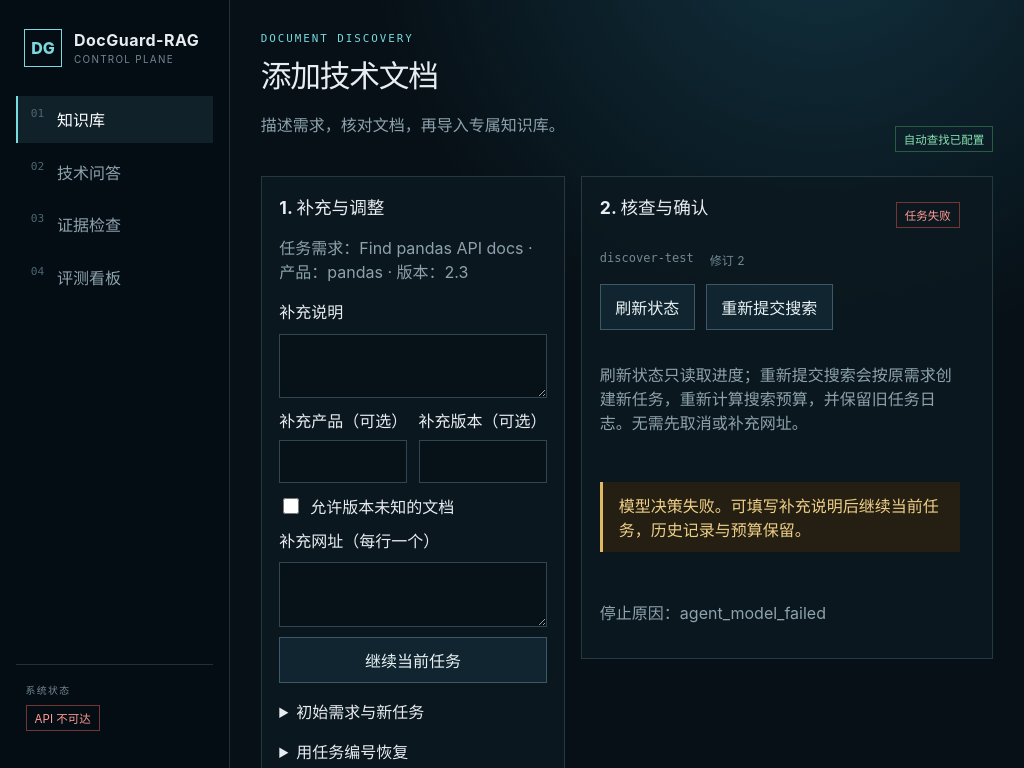
it: failed search can resubmit original parameters after restore without cancelling or adding a URL
This screenshot has width=1024, height=768.
Click the button "重新提交搜索" at point(769, 307), box [706, 284, 833, 330]
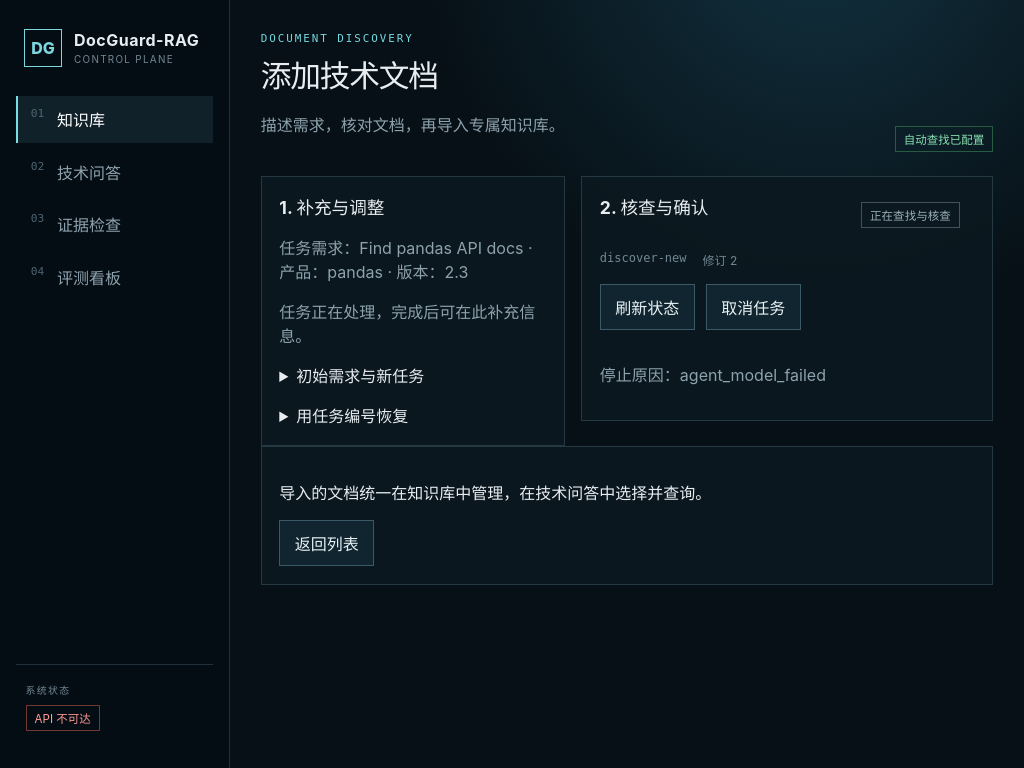
Check: the text "discover-new" is shown, box [600, 251, 686, 268]
